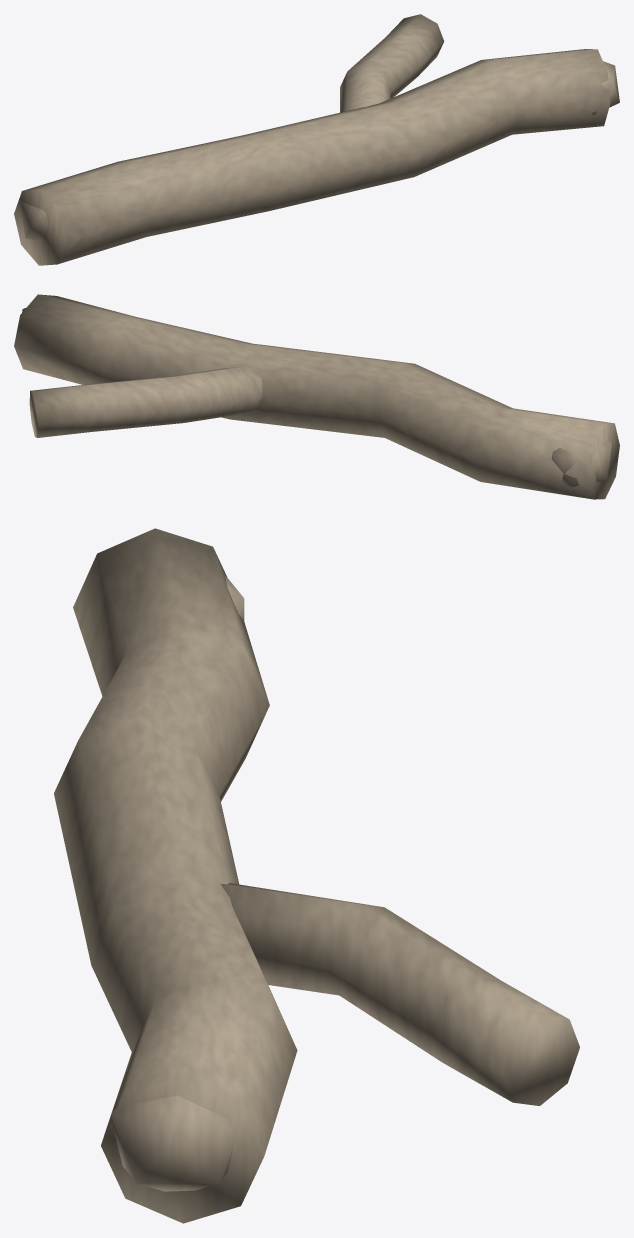
Rendered from driftwood.fbx.
3 renders of one model, top to bottom at view 1: azimuth 30°, elevation 25°; view 2: azimuth 150°, elevation 25°; view 3: azimuth 270°, elevation 25°, orthographic. The views are drawn at different scales.
Parts seen in each view (by area): view 1: driftwood.001; view 2: driftwood.001; view 3: driftwood.001.
Boxes of the visible parts, x1=… form: driftwood.001: x1=14, y1=14, x2=619, y2=265; driftwood.001: x1=14, y1=294, x2=619, y2=499; driftwood.001: x1=54, y1=528, x2=579, y2=1223.
Bounding box in the file's own units: 0.2936 × 0.041 × 0.1144.
1 material, 1 textured.
